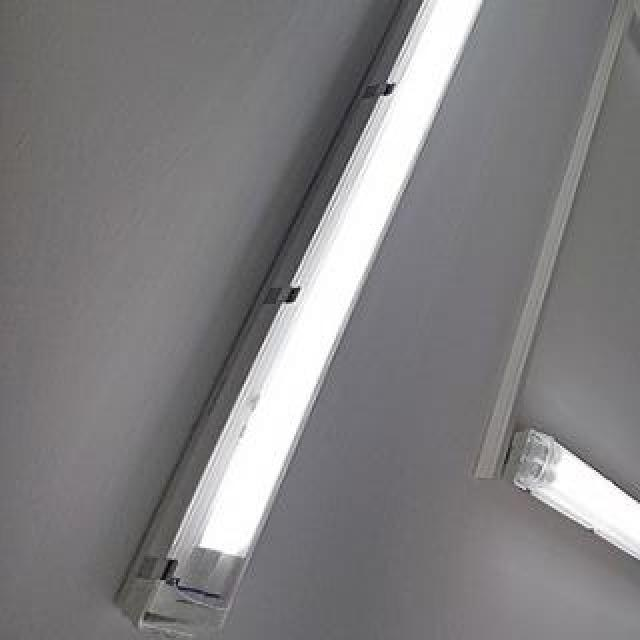fluorescent tube: (126, 0, 564, 640), (500, 406, 640, 640), (634, 0, 640, 262)
